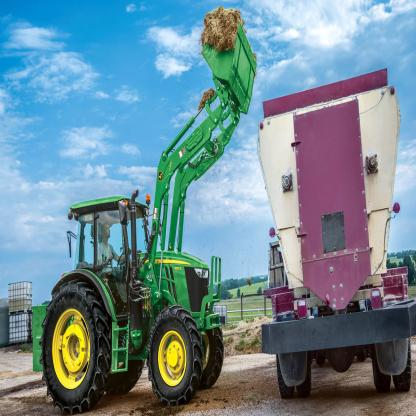bull_dozer/loader/grader: (28, 8, 256, 416)
